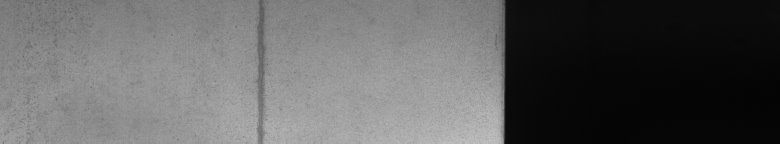hd: (247, 4, 270, 136)
